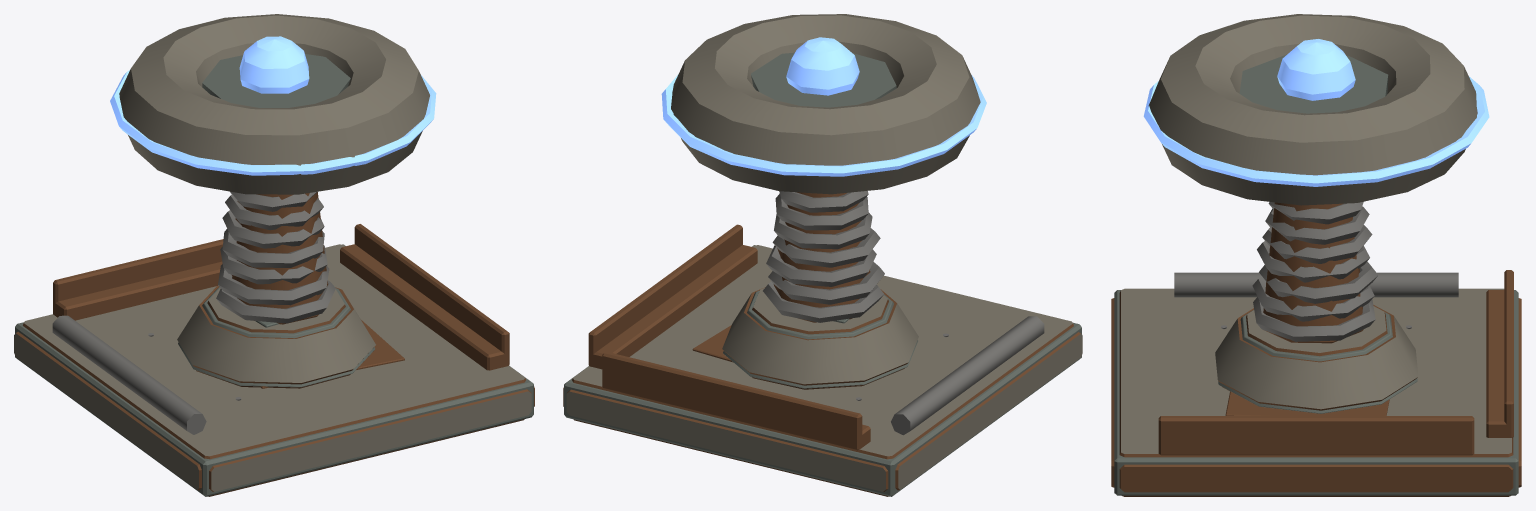
File: R4X_AreaEMP.fbx
3 renders of one model, left to right at view 1: azimuth 30°, elevation 25°; view 2: azimuth 150°, elevation 25°; view 3: azimuth 270°, elevation 25°, orthographic. The views are drawn at different scales.
Visible parts, largest first — view 1: R4X_AreaEMP_Body; view 2: R4X_AreaEMP_Body; view 3: R4X_AreaEMP_Body.
Boxes of the visible parts, x1,y1,x2,y2 form: R4X_AreaEMP_Body: [14, 14, 534, 496]; R4X_AreaEMP_Body: [563, 14, 1082, 496]; R4X_AreaEMP_Body: [1111, 14, 1521, 496].
Size of the model in its own units: 0.52 by 0.52 by 0.52.
